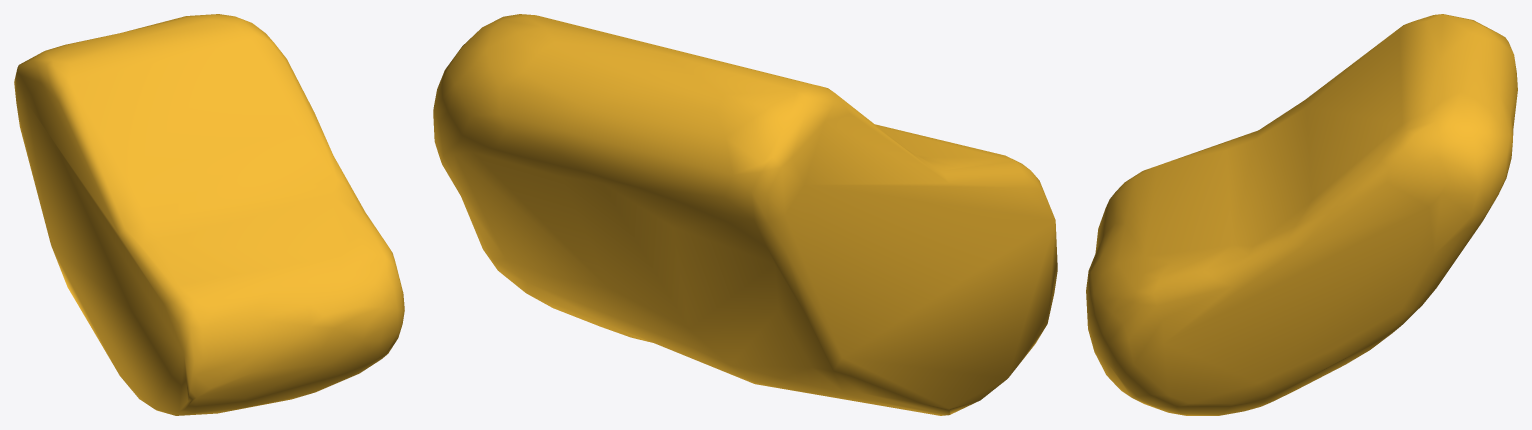
File: nervoso-optic-chiasm-l.glb
The picture shows the model from 3 angles, left to right: view 1: azimuth 30°, elevation 25°; view 2: azimuth 150°, elevation 25°; view 3: azimuth 270°, elevation 25°; orthographic projection. The views are drawn at different scales.
Visible parts, largest first — view 1: Optic chiasm.l; view 2: Optic chiasm.l; view 3: Optic chiasm.l.
Boxes of the visible parts, box(x1,y1,x2,y2) form: Optic chiasm.l: box(14, 14, 404, 415); Optic chiasm.l: box(433, 14, 1057, 415); Optic chiasm.l: box(1086, 14, 1517, 415).
Size of the model in its own units: 0.00711 by 0.00785 by 0.01.
